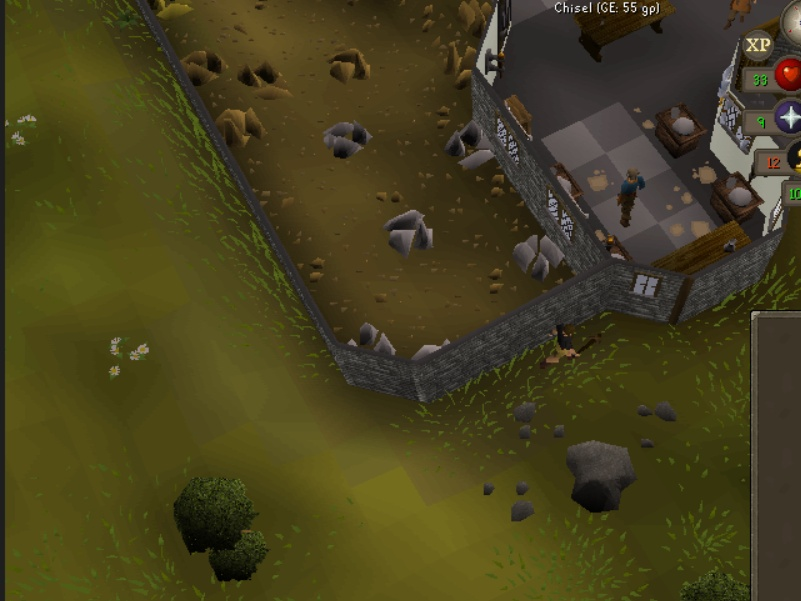clay: (210, 106, 269, 152), (235, 56, 294, 102), (320, 42, 379, 88), (174, 45, 233, 91), (441, 38, 480, 89), (450, 1, 494, 39)
silver: (439, 119, 503, 172), (510, 230, 569, 284), (382, 205, 441, 259), (317, 116, 381, 162), (341, 323, 397, 363)
